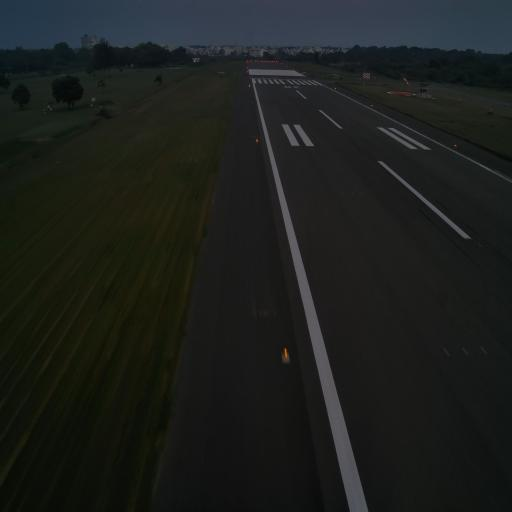off: (460, 342, 472, 360), (478, 342, 488, 360), (442, 346, 452, 360), (341, 189, 344, 197), (350, 190, 354, 196), (360, 192, 364, 198)
on: (280, 345, 292, 375), (454, 141, 457, 149), (255, 137, 258, 143)
